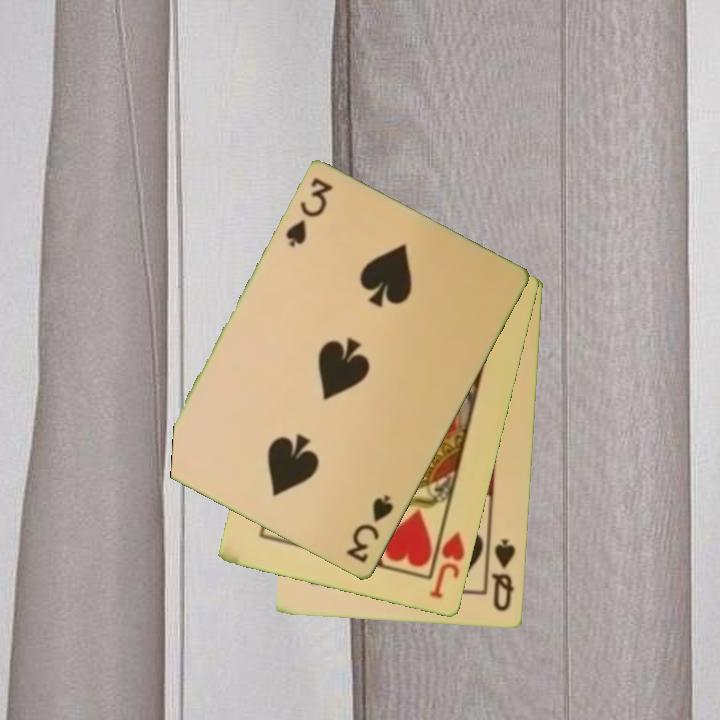3s: (343, 491, 397, 567), (282, 175, 336, 251)
Jh: (426, 519, 468, 602)
Qs: (488, 536, 519, 615)
